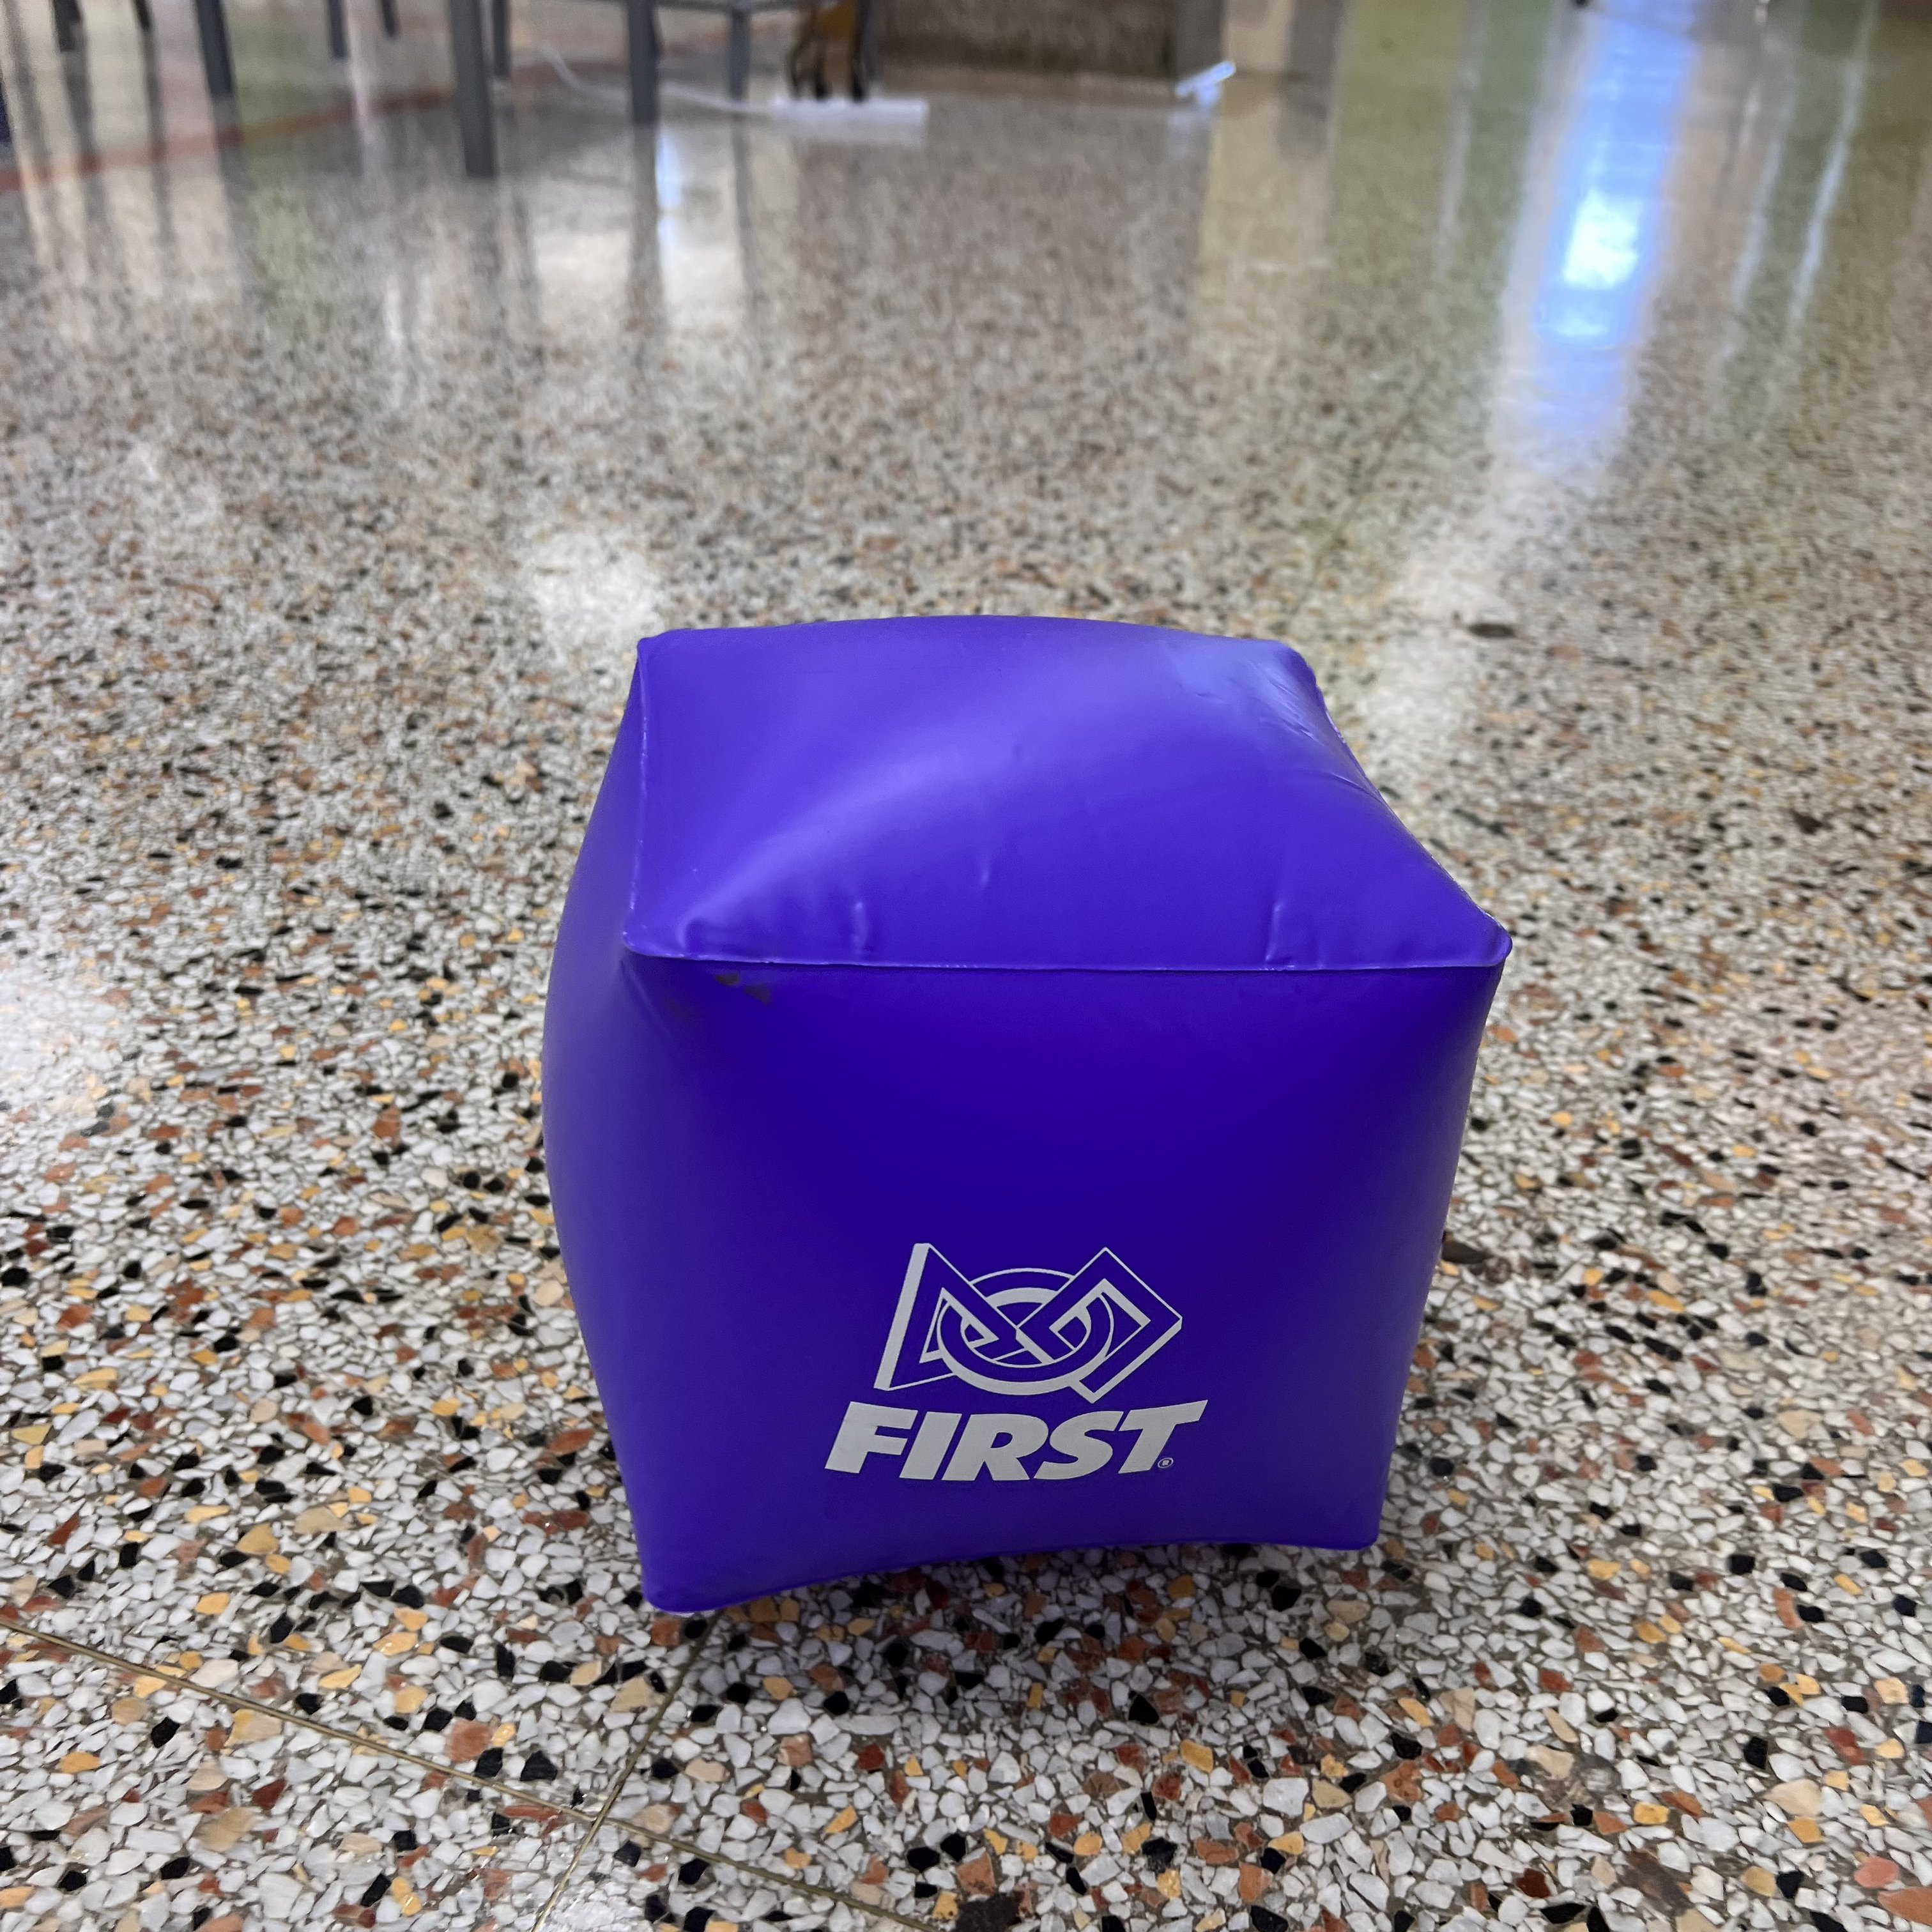cube: (543, 612, 1509, 1612)
